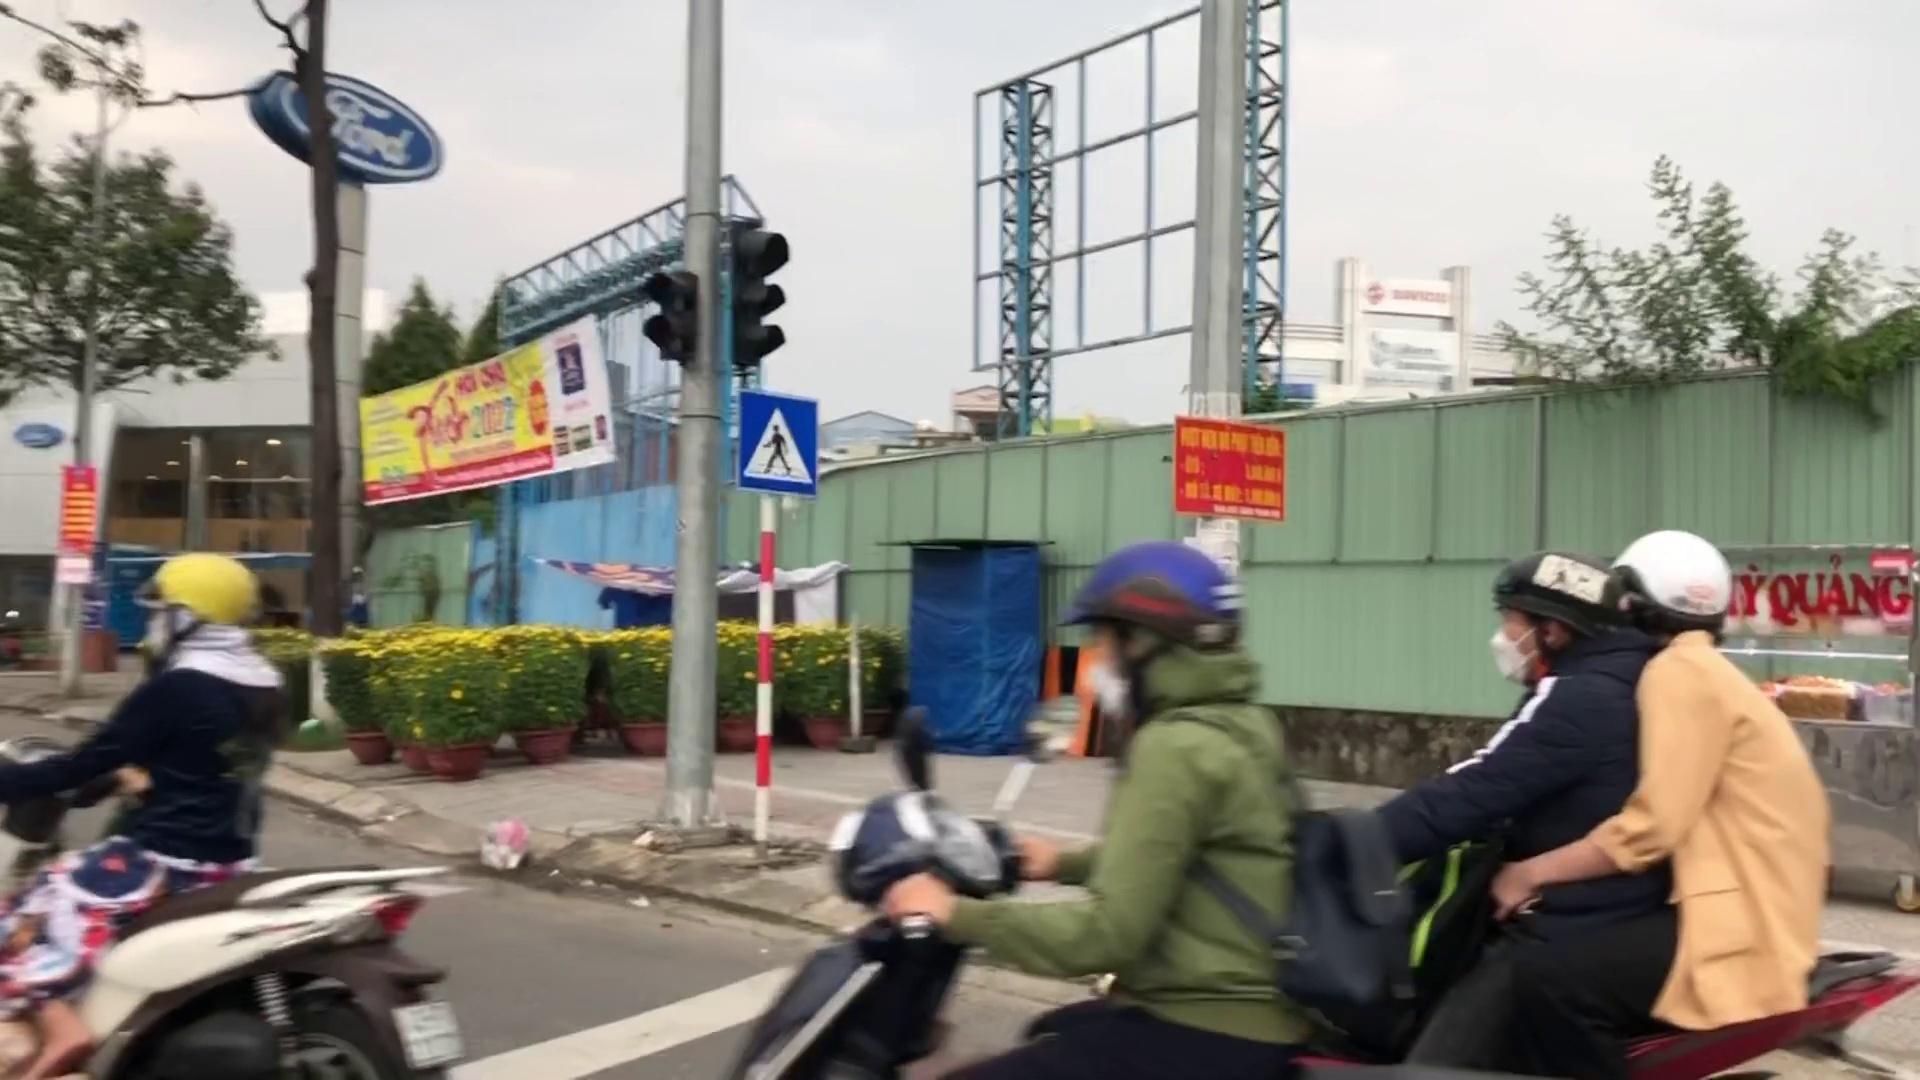Nguoi di bo: (731, 382, 822, 498)
